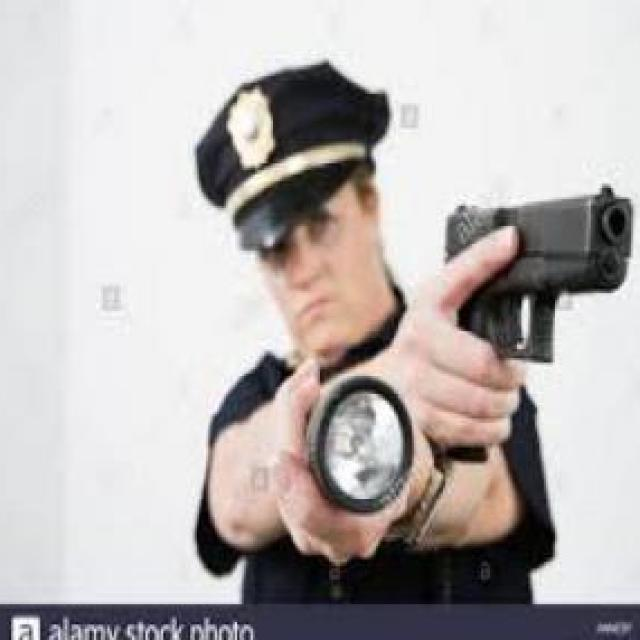pistol: (443, 184, 640, 471)
